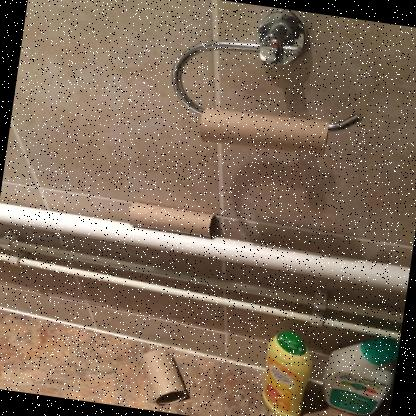Other plastic container: (322, 336, 398, 415), (262, 331, 312, 416)
Plastic bottle cap: (342, 337, 398, 365)
Toilet tube: (199, 108, 329, 155), (128, 201, 216, 237), (140, 350, 186, 404)
